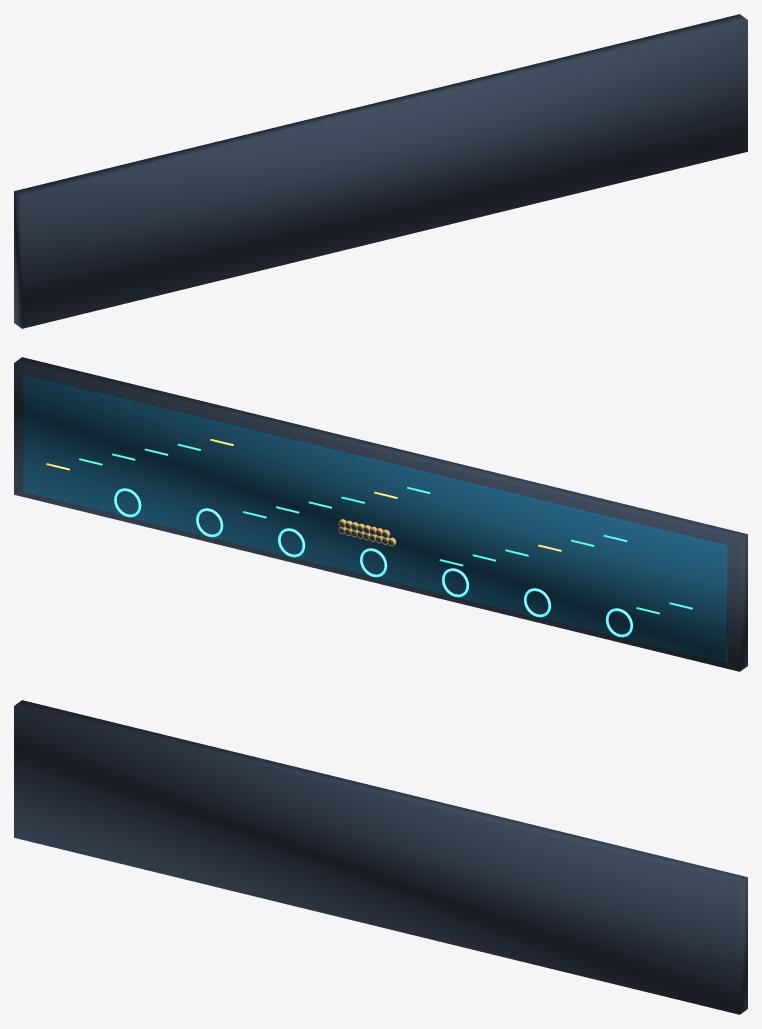
The model's file is L87_81_GravityEngineeringMasterSCADA_Fitted.fbx.
3 views of the same model, one above another, from view 1: azimuth 30°, elevation 25°; view 2: azimuth 150°, elevation 25°; view 3: azimuth 330°, elevation 25° (orthographic).
Parts seen in each view (by area): view 1: L87_GravityEngineeringMasterSCADA_Static__tint0A0F1A; view 2: L87_GravityEngineeringMasterSCADA_ANIM_GRAVITY_MASTER_SCADA_ (×3), L87_GravityEngineeringMasterSCADA_Static__tint0A0F1A, L87_GravityEngineeringMasterSCADA_Static__tintF5A62B; view 3: L87_GravityEngineeringMasterSCADA_Static__tint0A0F1A.
Part boxes in pixels (bbox=[...]): L87_GravityEngineeringMasterSCADA_Static__tint0A0F1A: bbox=[14, 14, 747, 328]; L87_GravityEngineeringMasterSCADA_ANIM_GRAVITY_MASTER_SCADA_ (×3): bbox=[23, 374, 727, 662]; L87_GravityEngineeringMasterSCADA_Static__tint0A0F1A: bbox=[14, 357, 747, 671]; L87_GravityEngineeringMasterSCADA_Static__tintF5A62B: bbox=[338, 519, 396, 546]; L87_GravityEngineeringMasterSCADA_Static__tint0A0F1A: bbox=[14, 700, 747, 1014].
Size of the model in its own units: 119 by 20.64 by 5.4.
